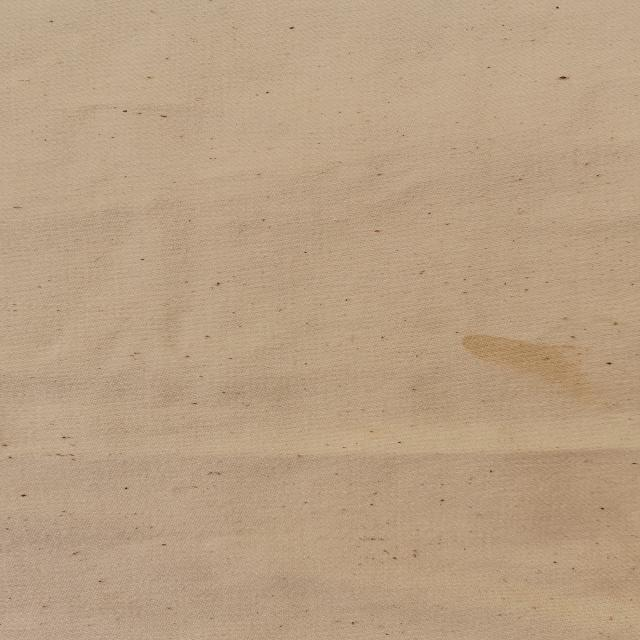taaaches: (434, 323, 640, 410)
